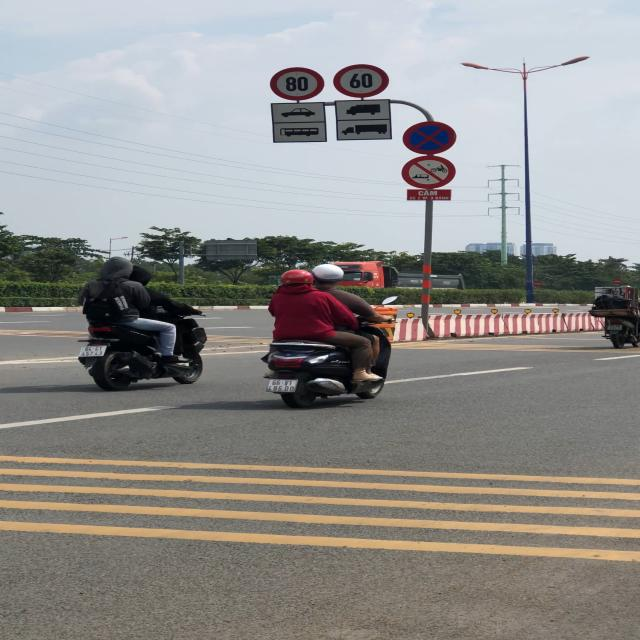Bien bao cam dung xe va do xe: (402, 120, 458, 156)
Bien bao toc do toi da cho phep: (331, 65, 393, 98), (267, 67, 327, 101)
